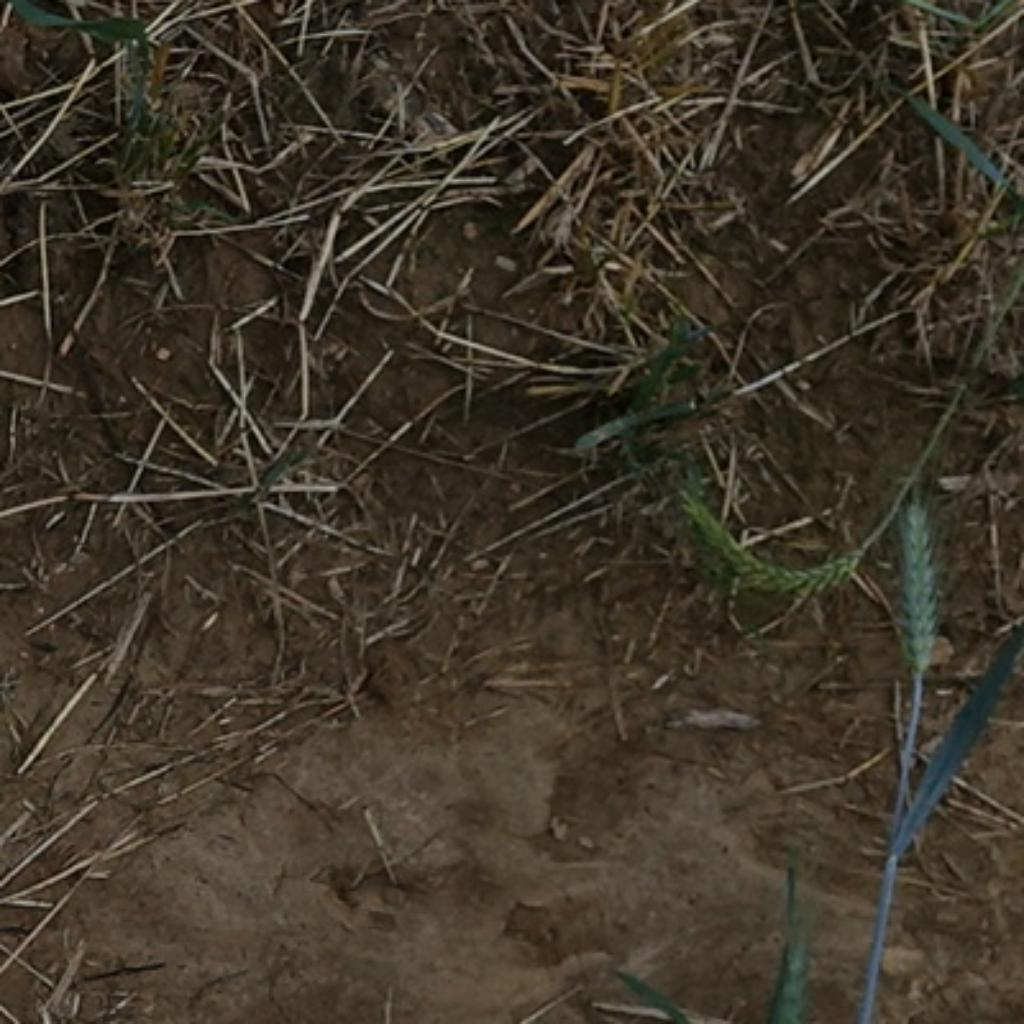0-0: (666, 488, 886, 598), (875, 488, 955, 685), (749, 930, 825, 1024)
